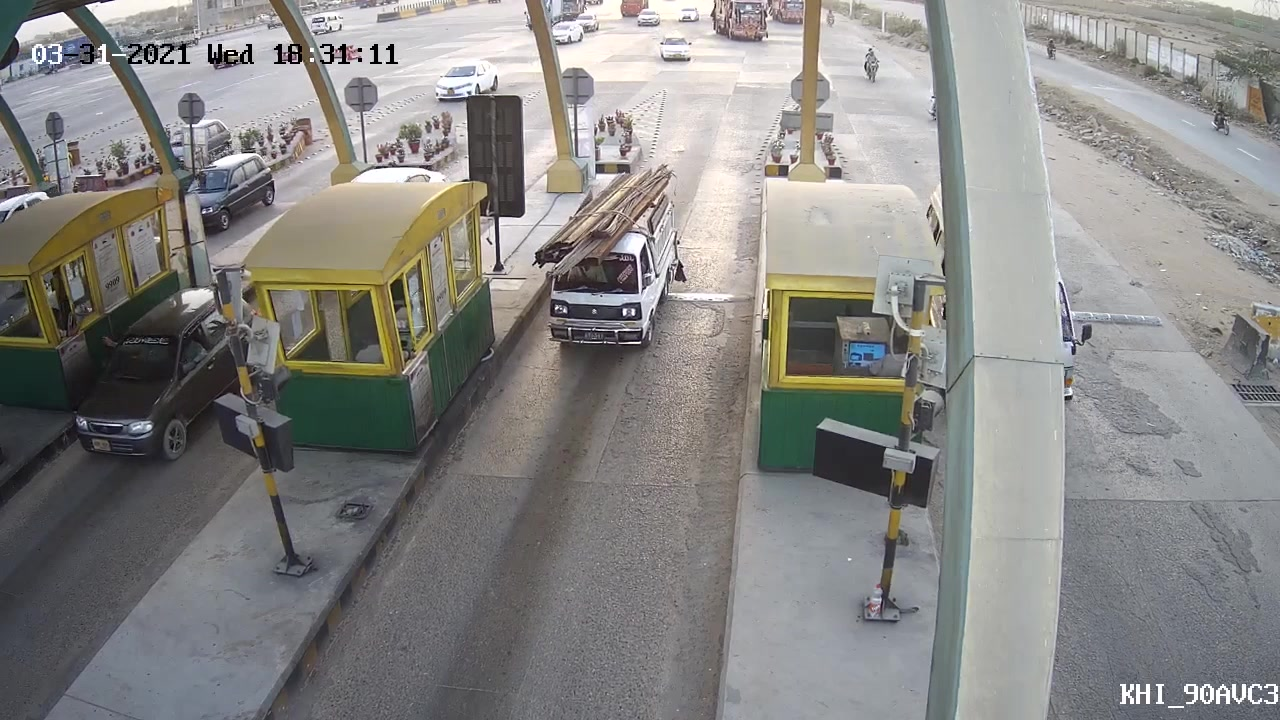F1: (536, 176, 689, 354)
